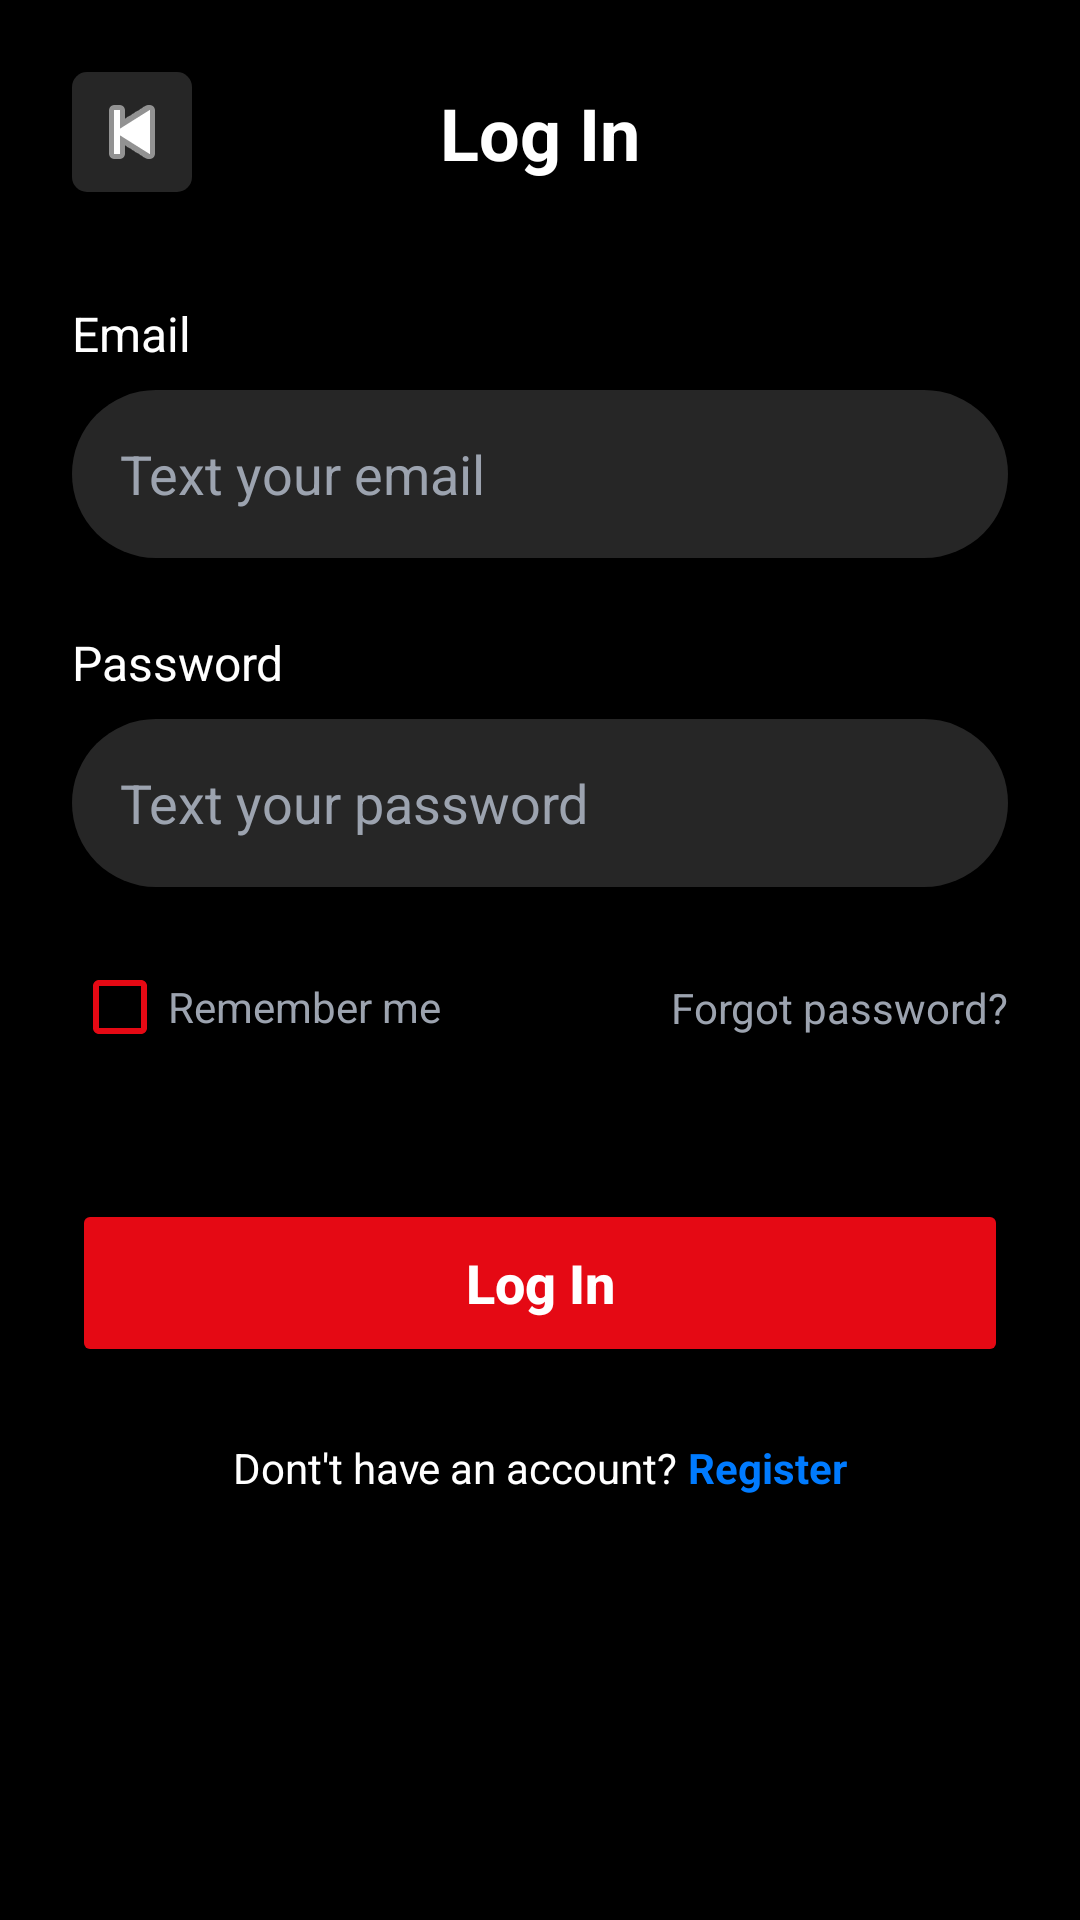

Locate icon controls on the screen. Image size 1080 × 1920, boxes as detection(x1, y1, x2, y2).
previous: detection(72, 72, 192, 192)
